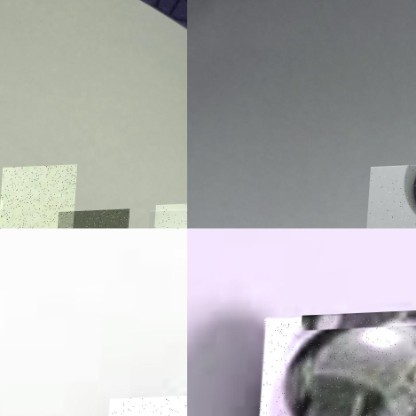ironball: (255, 313, 415, 415), (0, 166, 79, 228), (366, 166, 415, 228), (57, 210, 132, 228)
